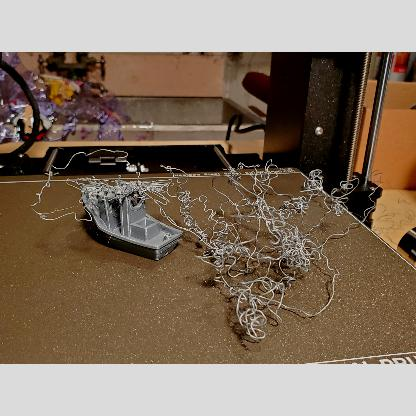fail: (176, 172, 342, 338), (139, 176, 175, 212)
